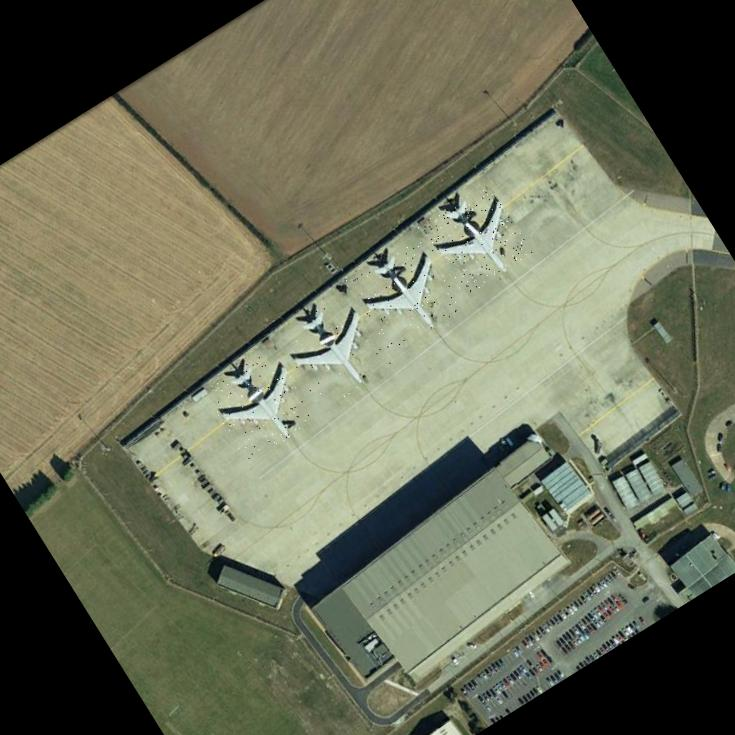A7: (345, 235, 463, 354), (275, 291, 392, 410), (416, 181, 532, 298), (202, 346, 317, 462)
